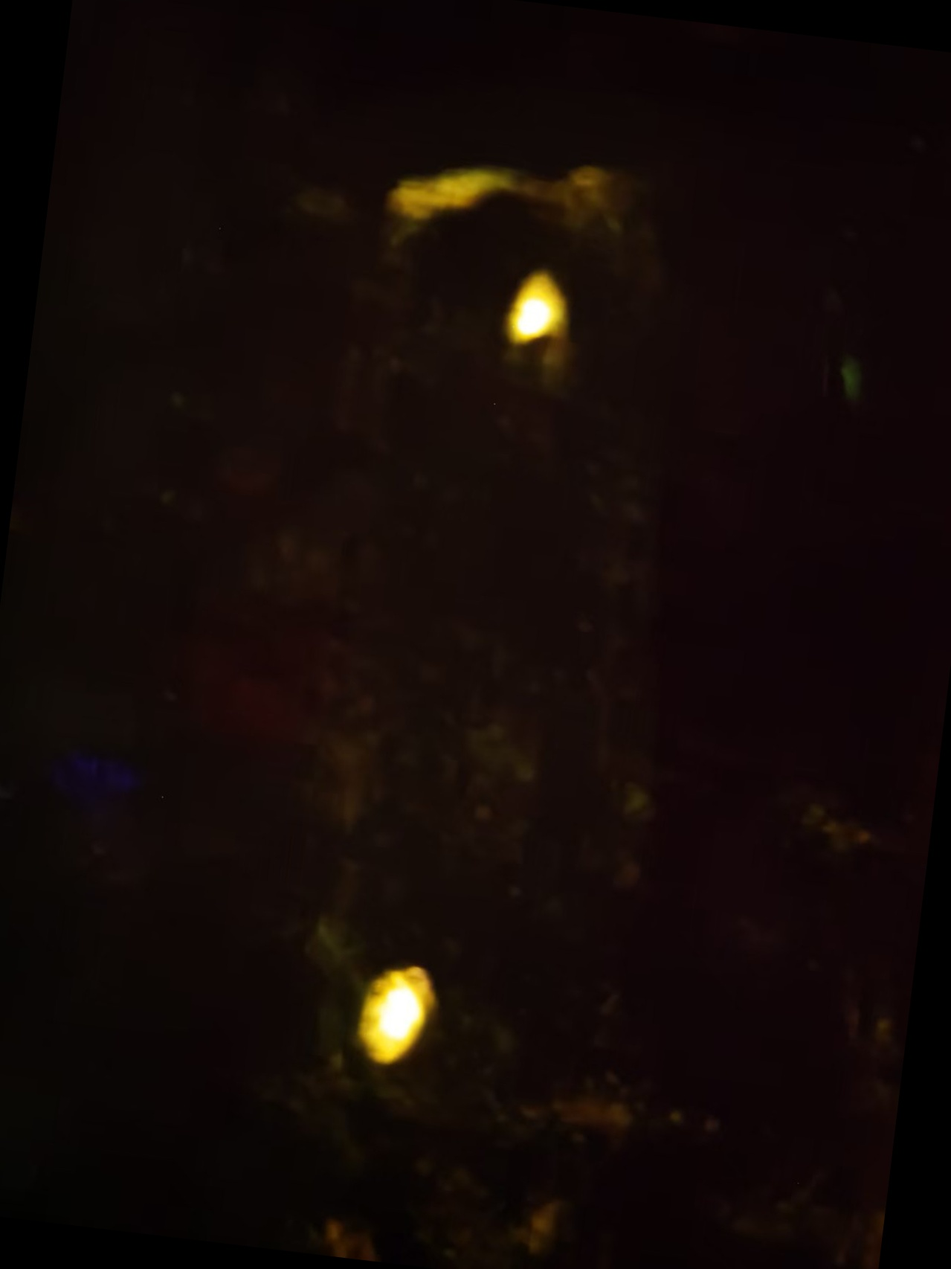Crater: (445, 247, 626, 381), (326, 937, 471, 1097)
